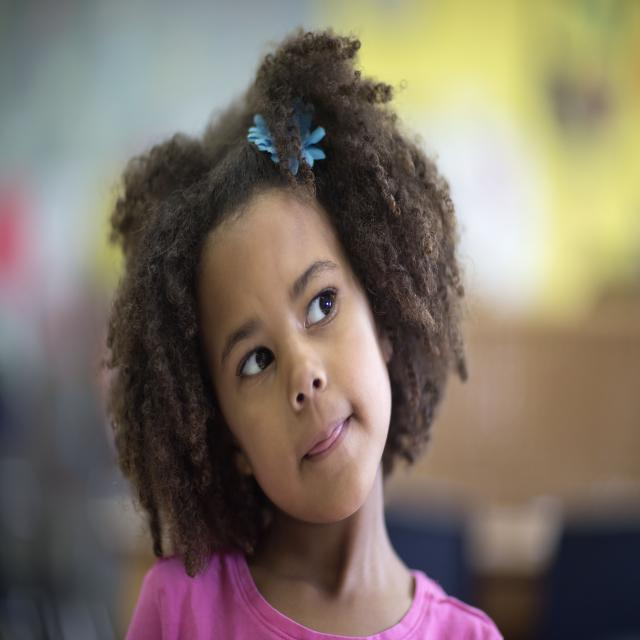child: (100, 26, 503, 640)
